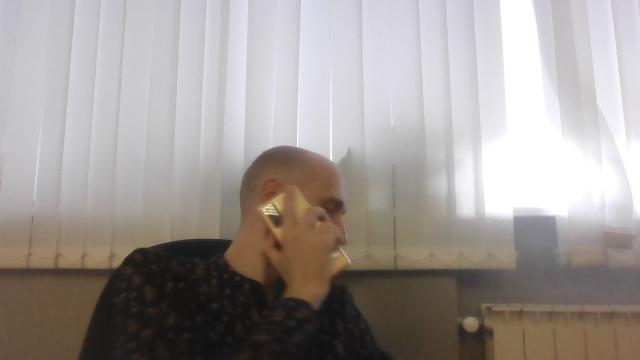Phone: (258, 185, 352, 278)
